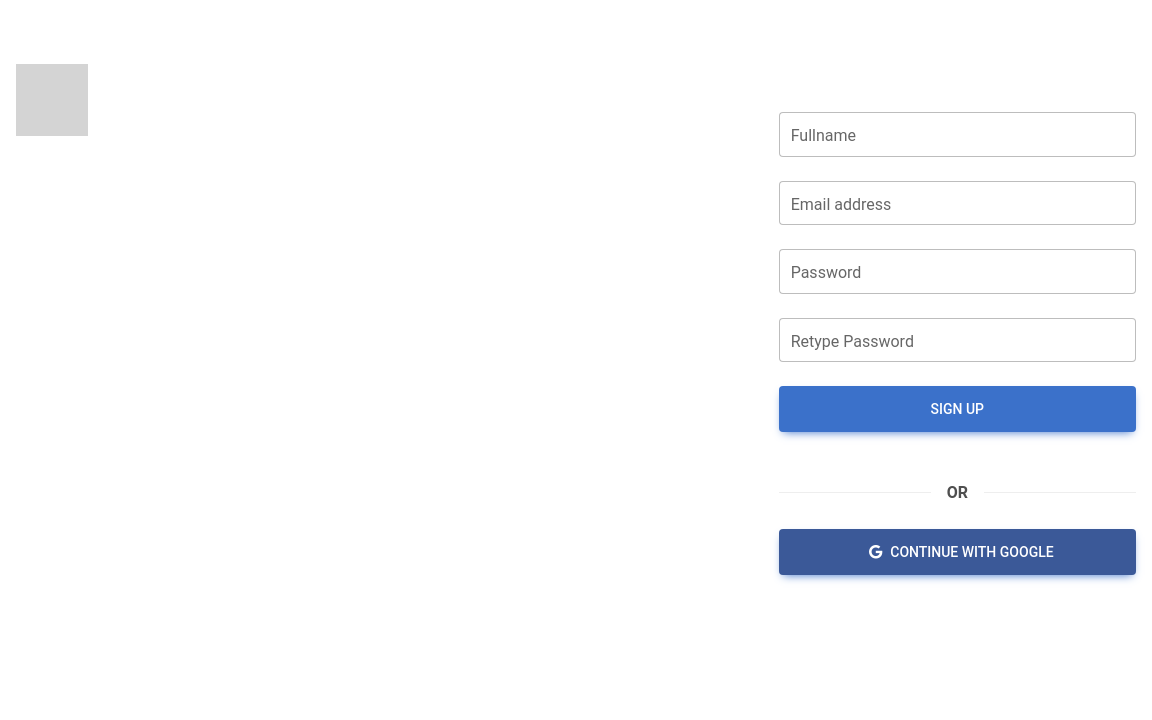
Test case: Page - Register › register with different passwords (-)
Type "Test User 1" into the field with id "fullname" at [958, 135], box [779,112,1136,157]
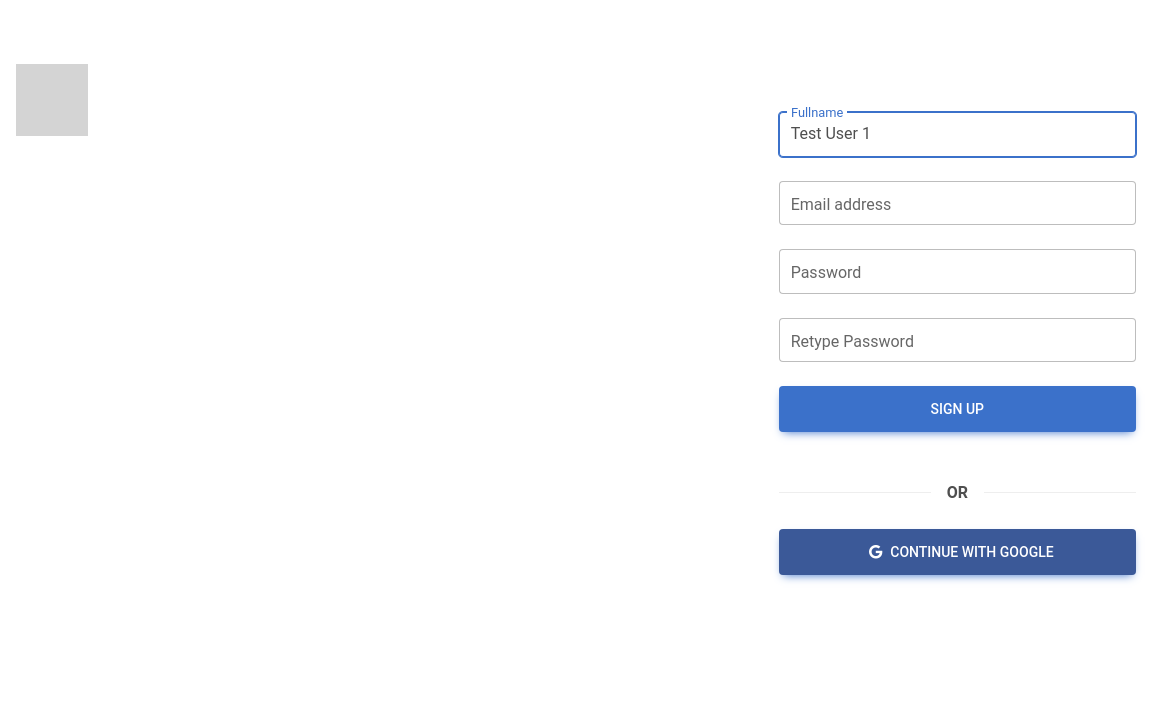
Type "testuser1@gmail.com" into the field with id "email" at [958, 204], box [779,181,1136,226]
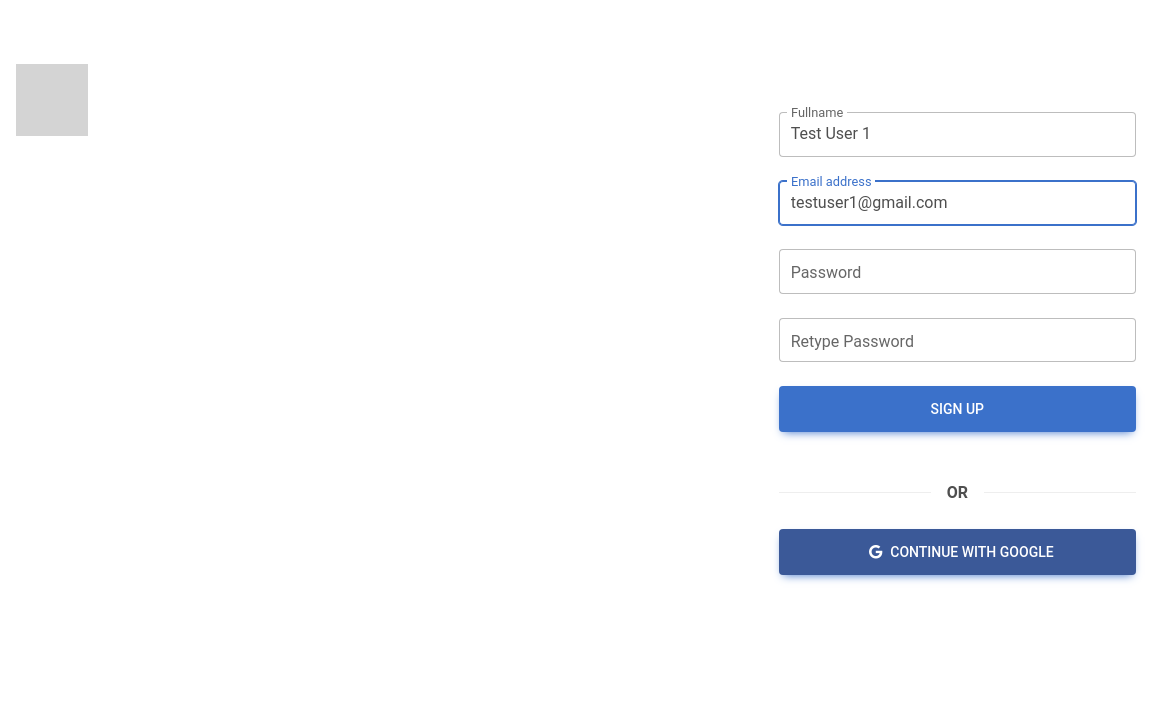
Type "password" into the password field labelled "Password" at [958, 272], box [779,249,1136,294]
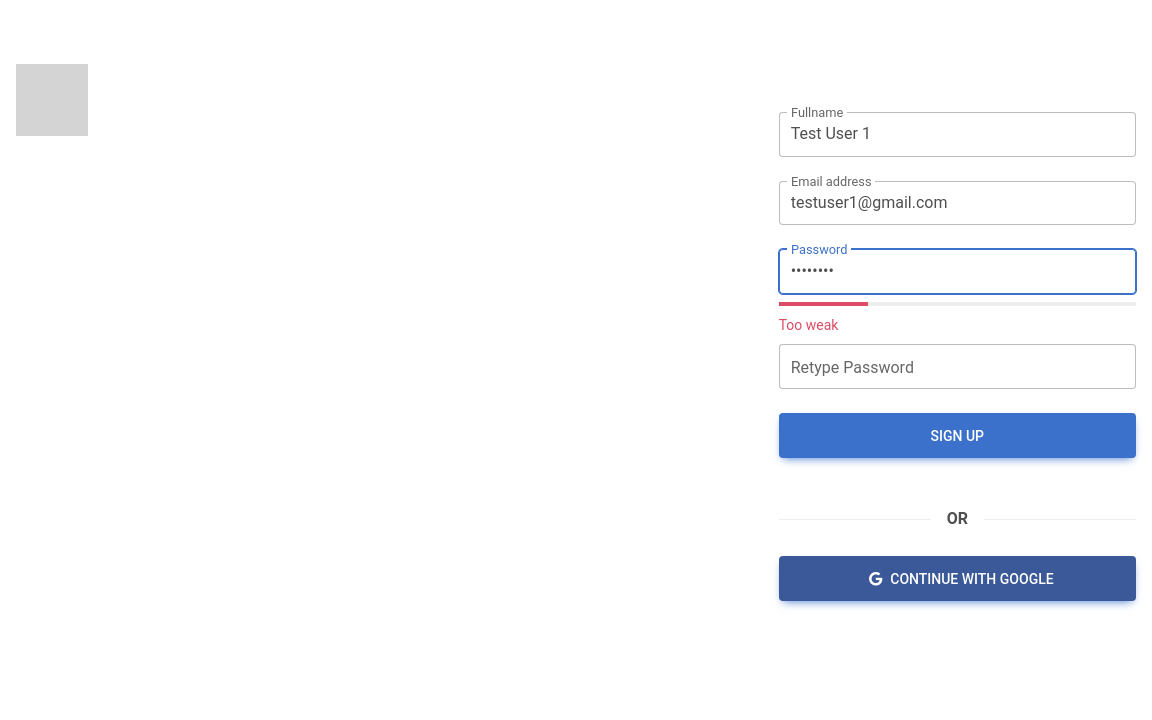
Type "repassword" into the password field with id "rePassword" at [958, 367], box [779,344,1136,389]
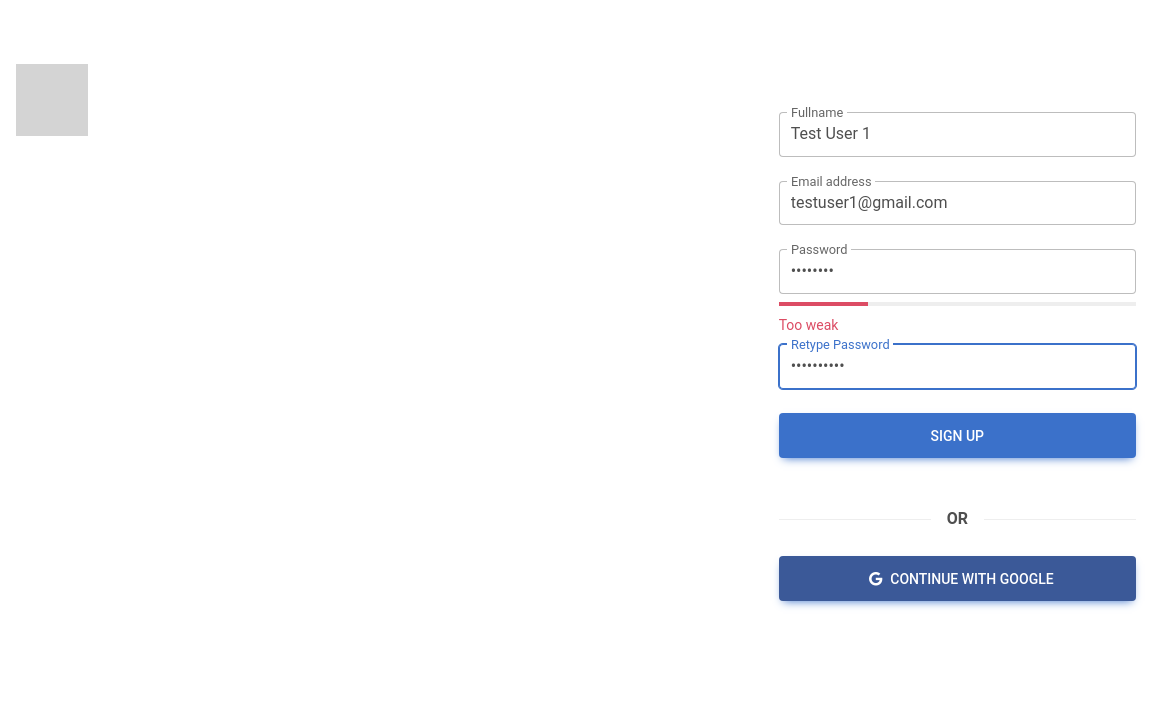
Click the button "Sign up" at [958, 436], box [779,413,1136,458]
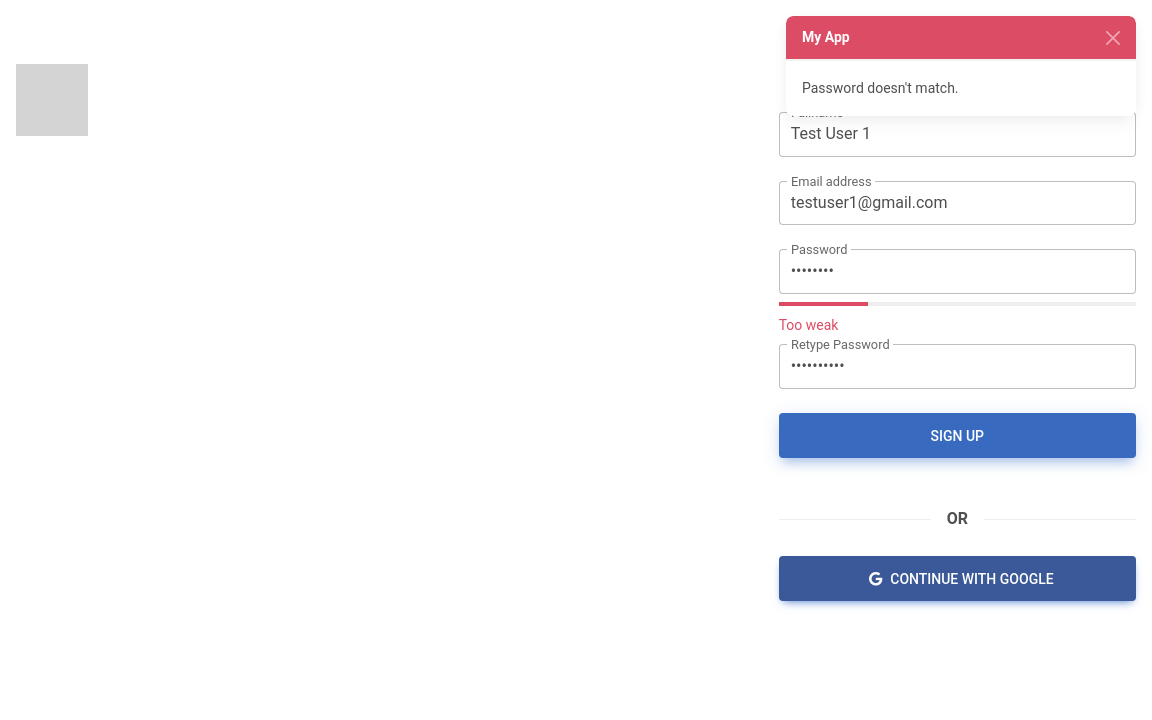
Now the text with class "toast-body" reads "Password doesn't match.", box [802,80,959,96]
